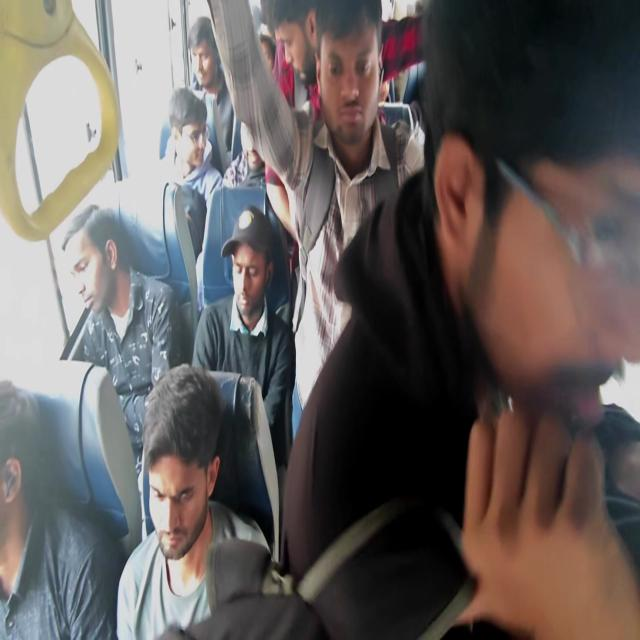person: (279, 1, 639, 637), (207, 0, 426, 442), (115, 362, 274, 638), (60, 204, 184, 540), (0, 378, 121, 639), (191, 204, 295, 466), (187, 15, 240, 173), (263, 0, 322, 125), (165, 86, 223, 206)
